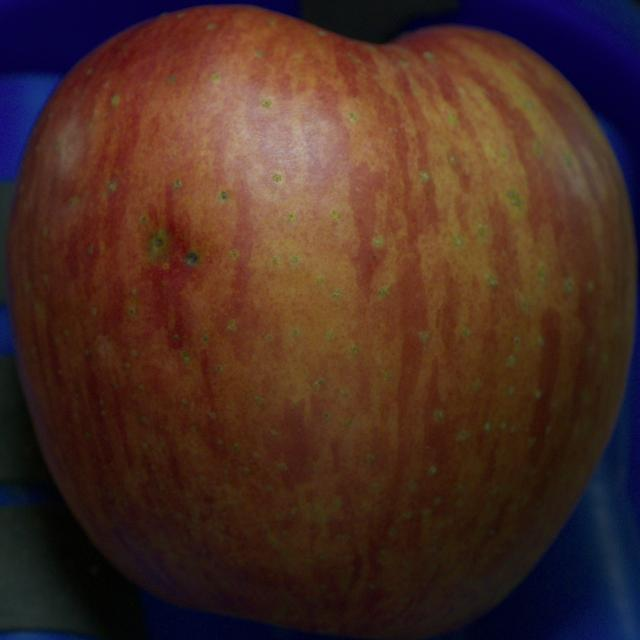apple: (6, 7, 637, 639)
pest: (149, 230, 166, 259), (184, 252, 198, 266)
